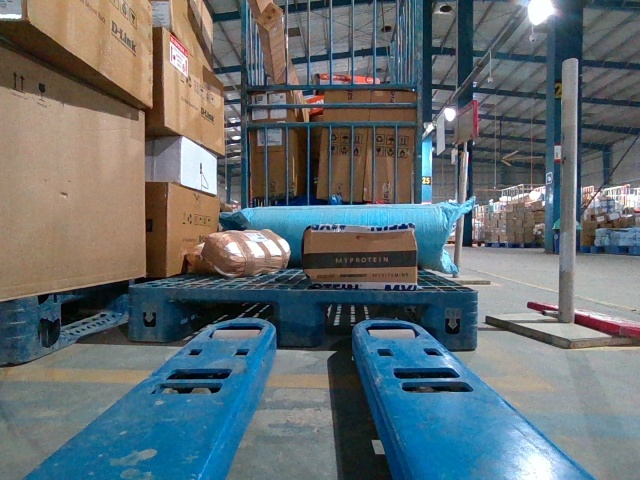block: (423, 291, 479, 354), (274, 292, 324, 351), (128, 286, 178, 343)
front: (128, 286, 477, 351)
hole pallet: (321, 297, 435, 352), (168, 297, 279, 350)
